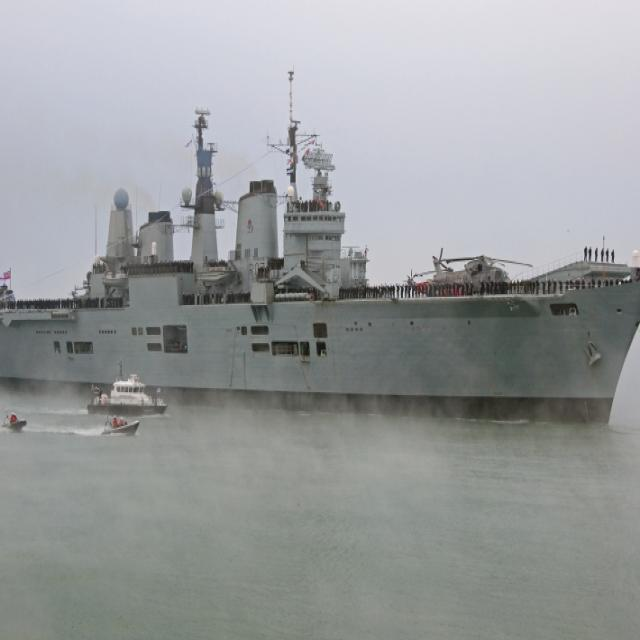Portanaves: (1, 68, 640, 434)
